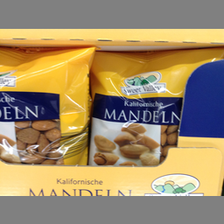nuts: (90, 52, 222, 166), (1, 47, 96, 166)
